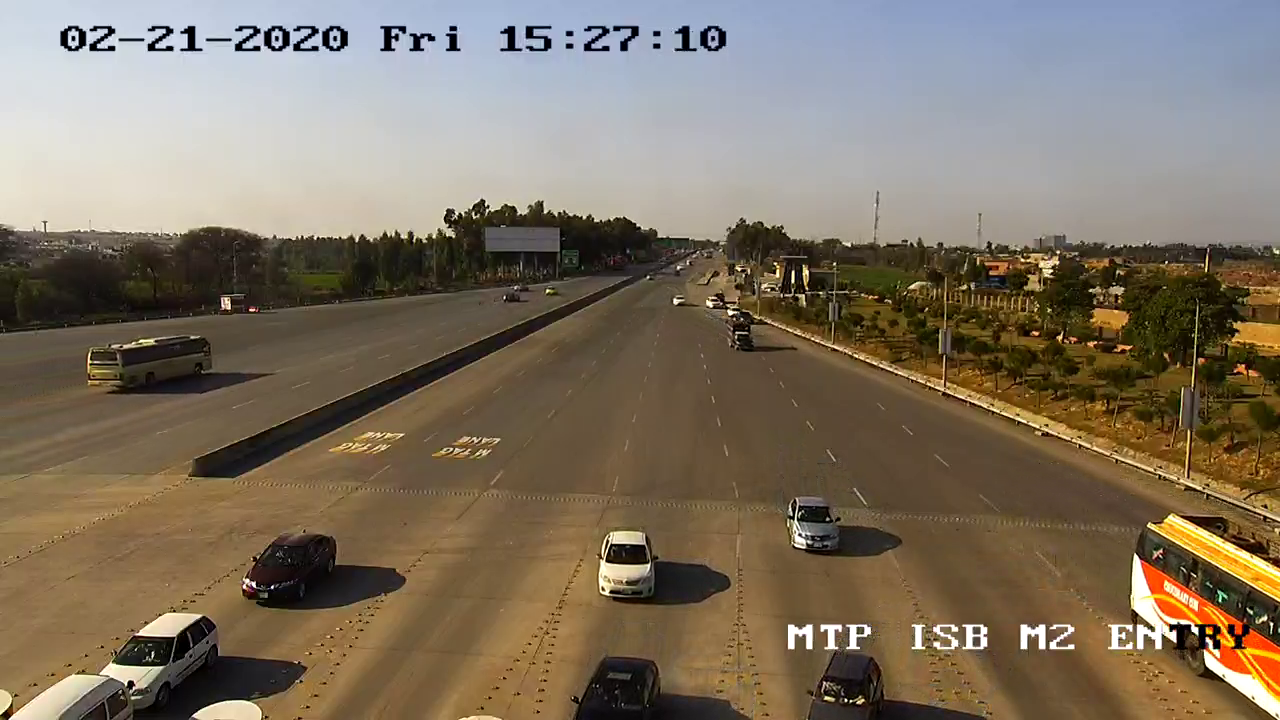f1: (243, 524, 344, 612), (585, 523, 664, 610), (778, 485, 850, 564)
